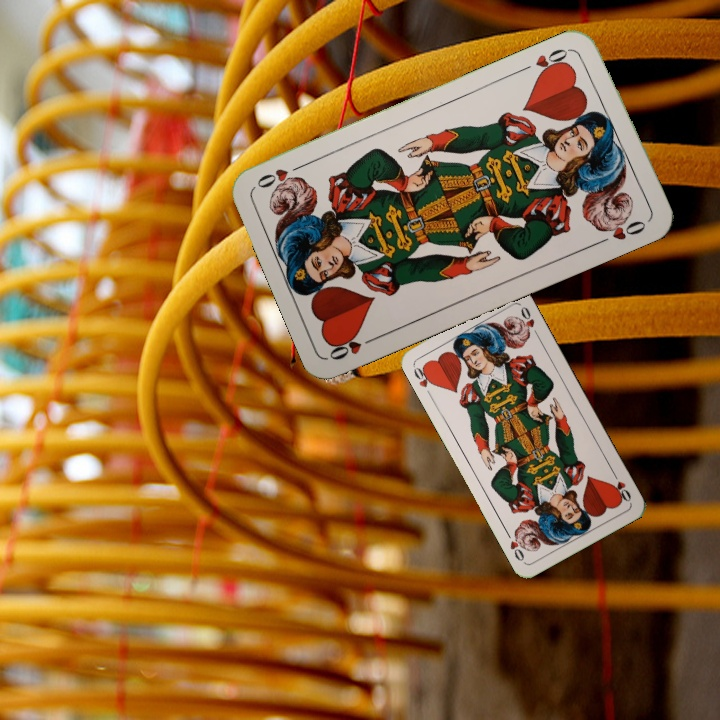HO: (519, 43, 576, 80), (325, 329, 383, 363), (409, 361, 437, 399), (608, 467, 634, 504)
